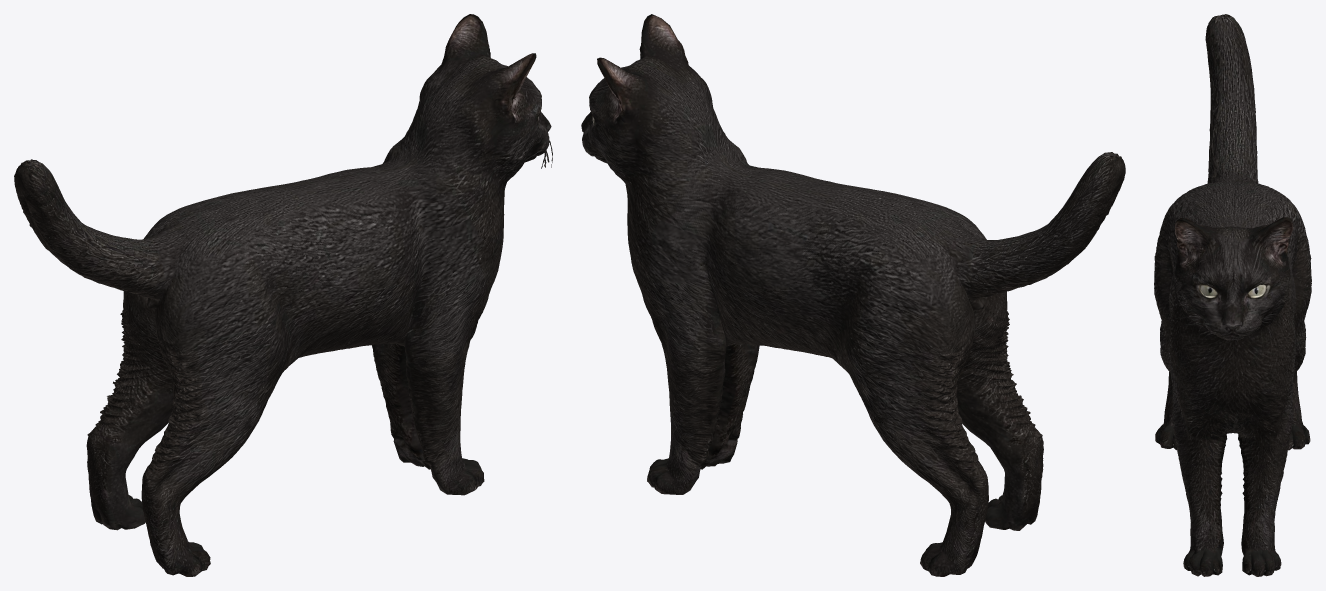
File: CATFLAP.glb
The picture shows the model from 3 angles, left to right: view 1: azimuth 30°, elevation 25°; view 2: azimuth 150°, elevation 25°; view 3: azimuth 270°, elevation 25°; orthographic projection. The views are drawn at different scales.
Visible parts, largest first — view 1: tripo_node_0e356019-a5e7-474f-a71e-219b72062b20; view 2: tripo_node_0e356019-a5e7-474f-a71e-219b72062b20; view 3: tripo_node_0e356019-a5e7-474f-a71e-219b72062b20.
Boxes of the visible parts, x1,y1,x2,y2 form: tripo_node_0e356019-a5e7-474f-a71e-219b72062b20: [14, 14, 552, 576]; tripo_node_0e356019-a5e7-474f-a71e-219b72062b20: [581, 14, 1125, 576]; tripo_node_0e356019-a5e7-474f-a71e-219b72062b20: [1154, 14, 1311, 576].
Size of the model in its own units: 1.31 by 0.9995 by 0.376.
1 material, 1 textured.
